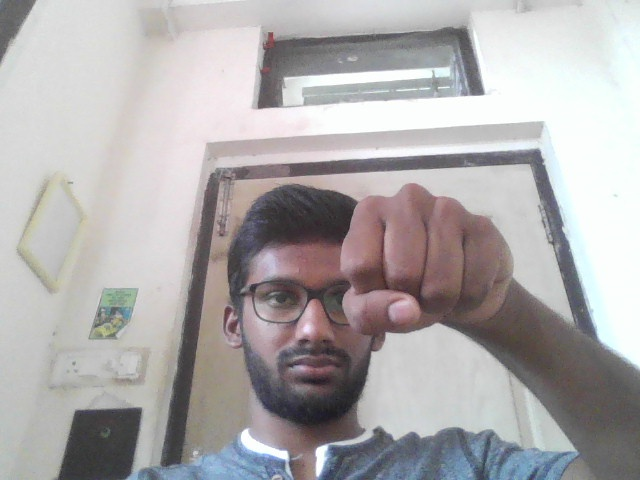No: (336, 178, 524, 345)
